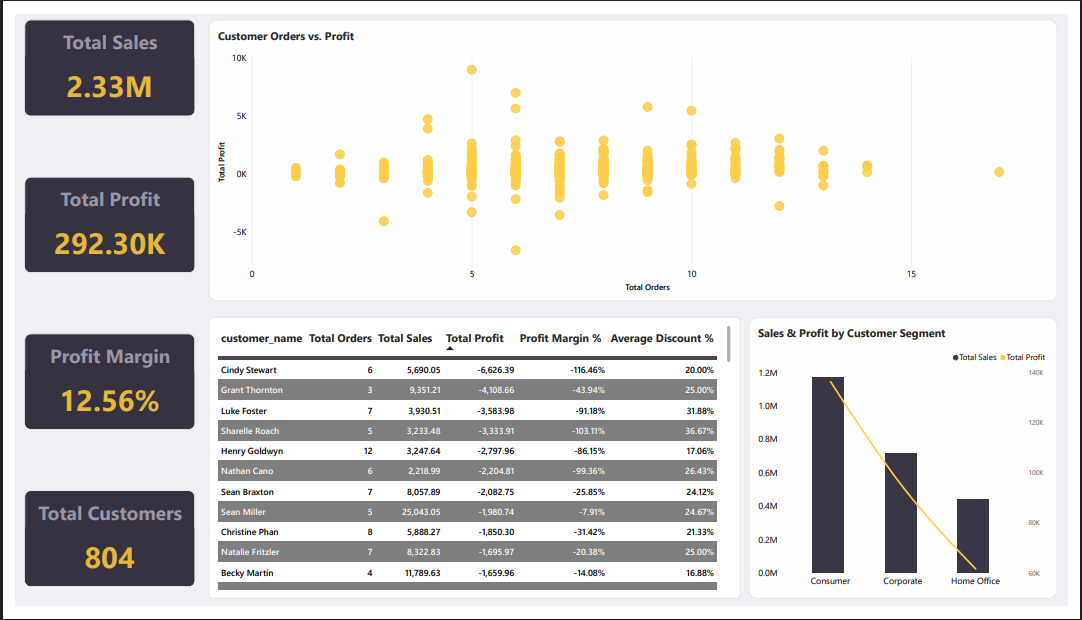

The page's visual inventory and layout, read from the dashboard file:
{"tool":"powerbi","page":{"name":"Customer & Segment Analysis","canvas":[1920,1080],"ordinal":2},"visuals":[{"type":"cardVisual","title":"Total Customers","fields":{"Data":["Measure.Total Customers"]},"box":[16.5,869.2,311.7,175.5],"z":0},{"type":"cardVisual","title":"Total Sales","fields":{"Data":["Measure.Total Sales"]},"box":[16.5,10.3,311.7,175.5],"z":1000},{"type":"cardVisual","title":"Total Profit","fields":{"Data":["Measure.Total Profit"]},"box":[16.5,296.6,311.7,175.5],"z":2000},{"type":"cardVisual","title":"Profit Margin","fields":{"Data":["Measure.Profit Margin %"]},"box":[16.5,582.9,311.7,175.5],"z":3000},{"type":"lineClusteredColumnComboChart","title":"Sales & Profit by Customer Segment","fields":{"Category":["superstore_sales.segment"],"Y":["Measure.Total Sales"],"Y2":["Measure.Total Profit"]},"box":[1337.8,553.3,563.6,514.1],"z":3001},{"type":"tableEx","fields":{"Values":["superstore_sales.customer_name","Measure.Total Orders","Measure.Total Sales","Measure.Total Profit","Measure.Profit Margin %","Measure.Average Discount %"]},"box":[353,553.3,970.3,514.1],"z":3002},{"type":"scatterChart","title":"Customer Orders vs. Profit","fields":{"Category":["superstore_sales.customer_name"],"X":["Measure.Total Orders"],"Y":["Measure.Total Profit"]},"box":[353,10.3,1548.4,514.1],"z":3003}]}

Visuals, with their boxes in screenshot pixels (x1, y1, x2, y2), scaled from the page's 1920x1080 canvas onto the 1082x620 screenshot:
"Total Customers" cardVisual: (left=9, top=499, right=185, bottom=600)
"Total Sales" cardVisual: (left=9, top=6, right=185, bottom=107)
"Total Profit" cardVisual: (left=9, top=170, right=185, bottom=271)
"Profit Margin" cardVisual: (left=9, top=335, right=185, bottom=435)
"Sales & Profit by Customer Segment" lineClusteredColumnComboChart: (left=754, top=318, right=1072, bottom=613)
tableEx - superstore_sales.customer_name x Measure.Total Orders: (left=199, top=318, right=746, bottom=613)
"Customer Orders vs. Profit" scatterChart: (left=199, top=6, right=1072, bottom=301)
